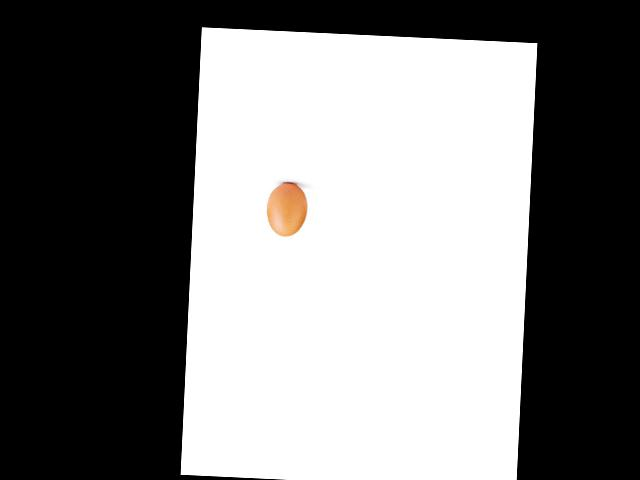egg: (266, 182, 308, 236)
